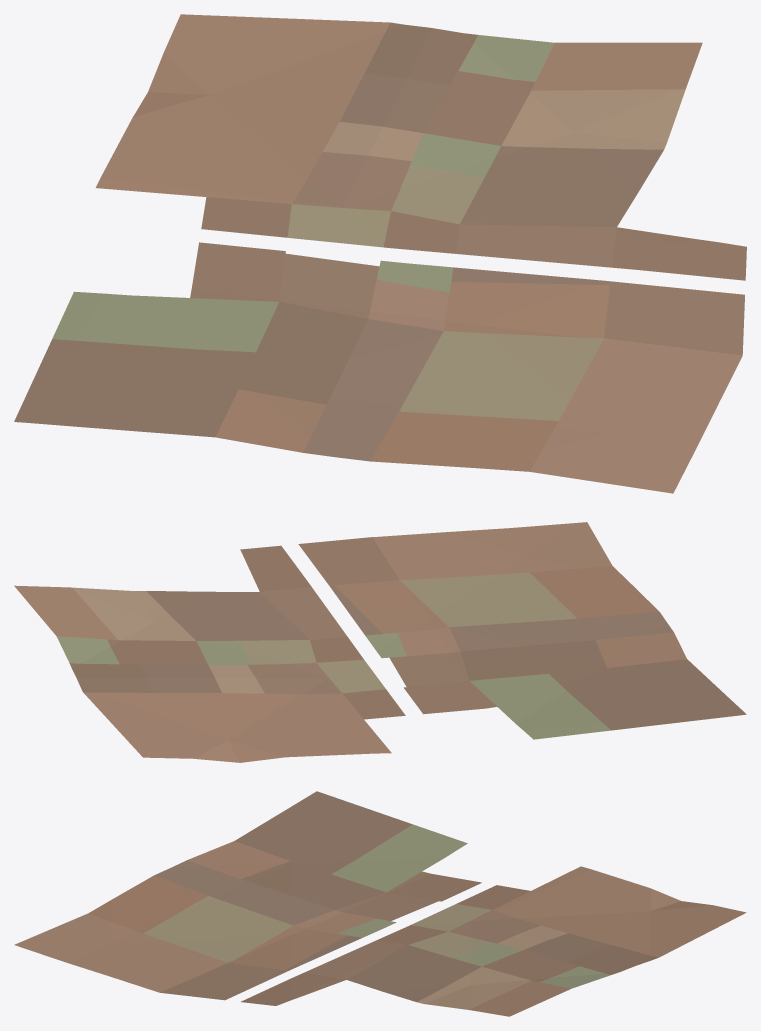
File: farm_-31_-27_soil.glb
The picture shows the model from 3 angles, top to bottom: view 1: azimuth 30°, elevation 25°; view 2: azimuth 150°, elevation 25°; view 3: azimuth 270°, elevation 25°; orthographic projection. The views are drawn at different scales.
Visible parts, largest first — view 1: geometry_0; view 2: geometry_0; view 3: geometry_0.
Part boxes in pixels (x1,y1,x2,y2): geometry_0: (14, 14, 746, 493); geometry_0: (14, 522, 746, 762); geometry_0: (14, 791, 746, 1016).
Size of the model in its own units: 289 by 28.81 by 326.
